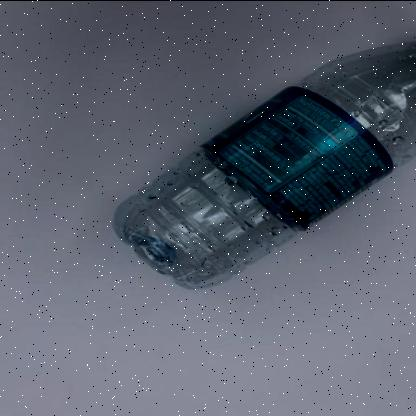Plastic Bottle: (113, 41, 416, 287)
